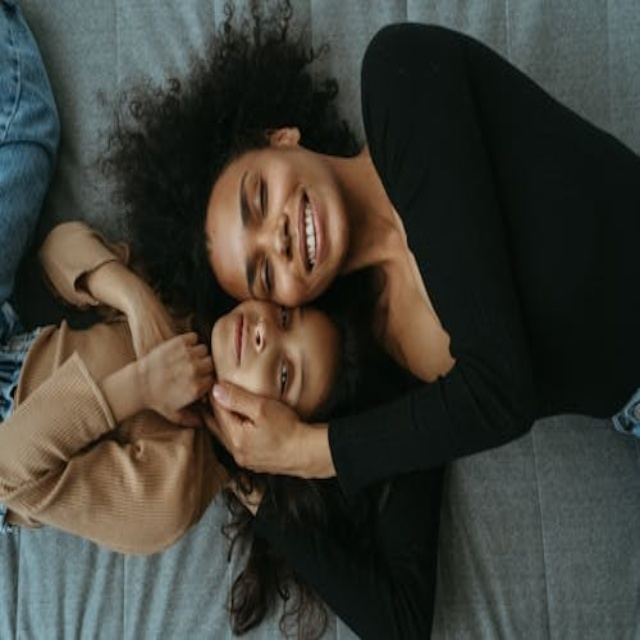Sin_gafas: (239, 161, 269, 284), (275, 304, 297, 407)
Sin_guantes: (119, 331, 218, 425), (210, 379, 297, 473)
Sin_mascara: (291, 179, 340, 275), (215, 306, 250, 373)
